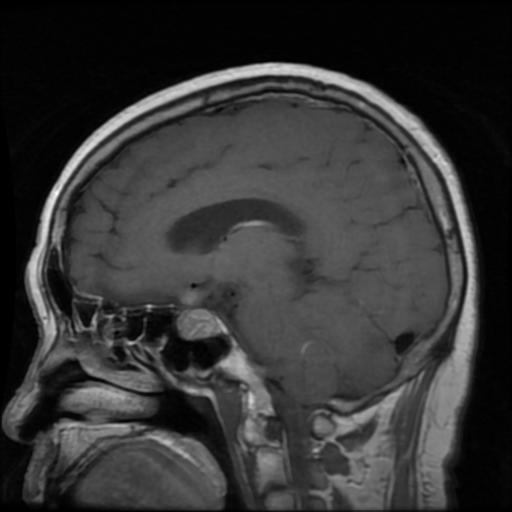Pituirity_tumour: (177, 308, 215, 339)
